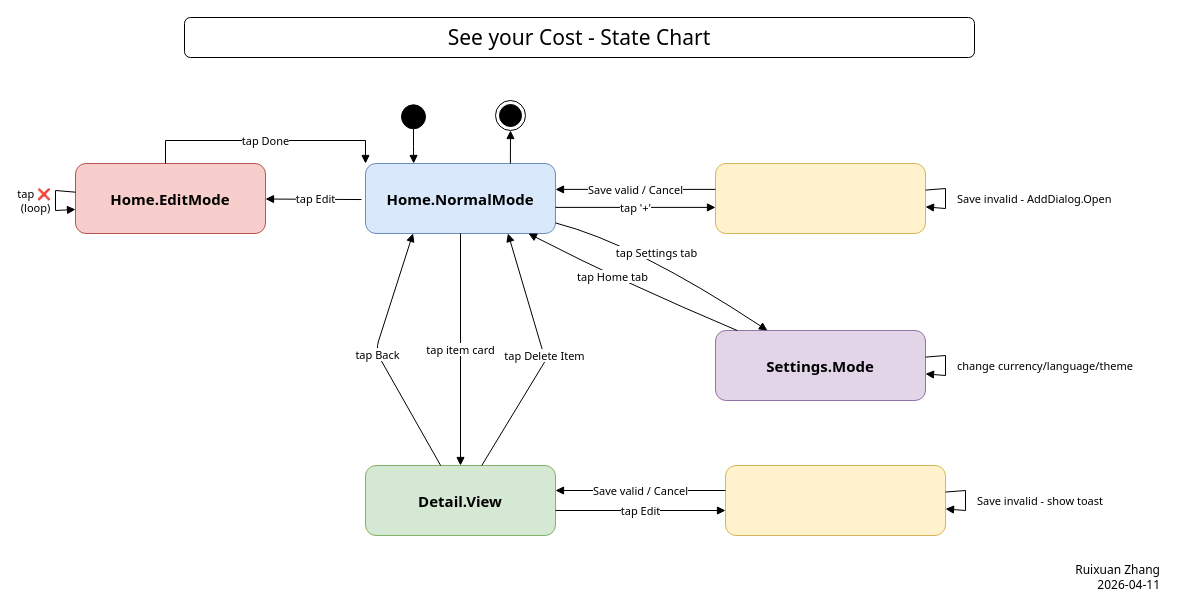
This 1179x615 diagram has some shape labels left out. Here are the shapes that lost their labels. From the top down, the centre of each, then its label:
At (820,198): "AddDialog.Open".
At (835,500): "Detail.EditDialog".
